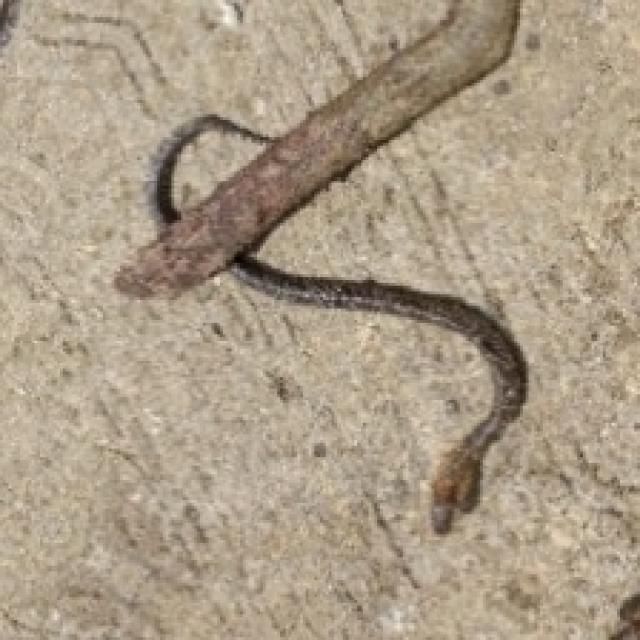philippine cobra: (114, 0, 526, 531), (169, 123, 269, 220)
